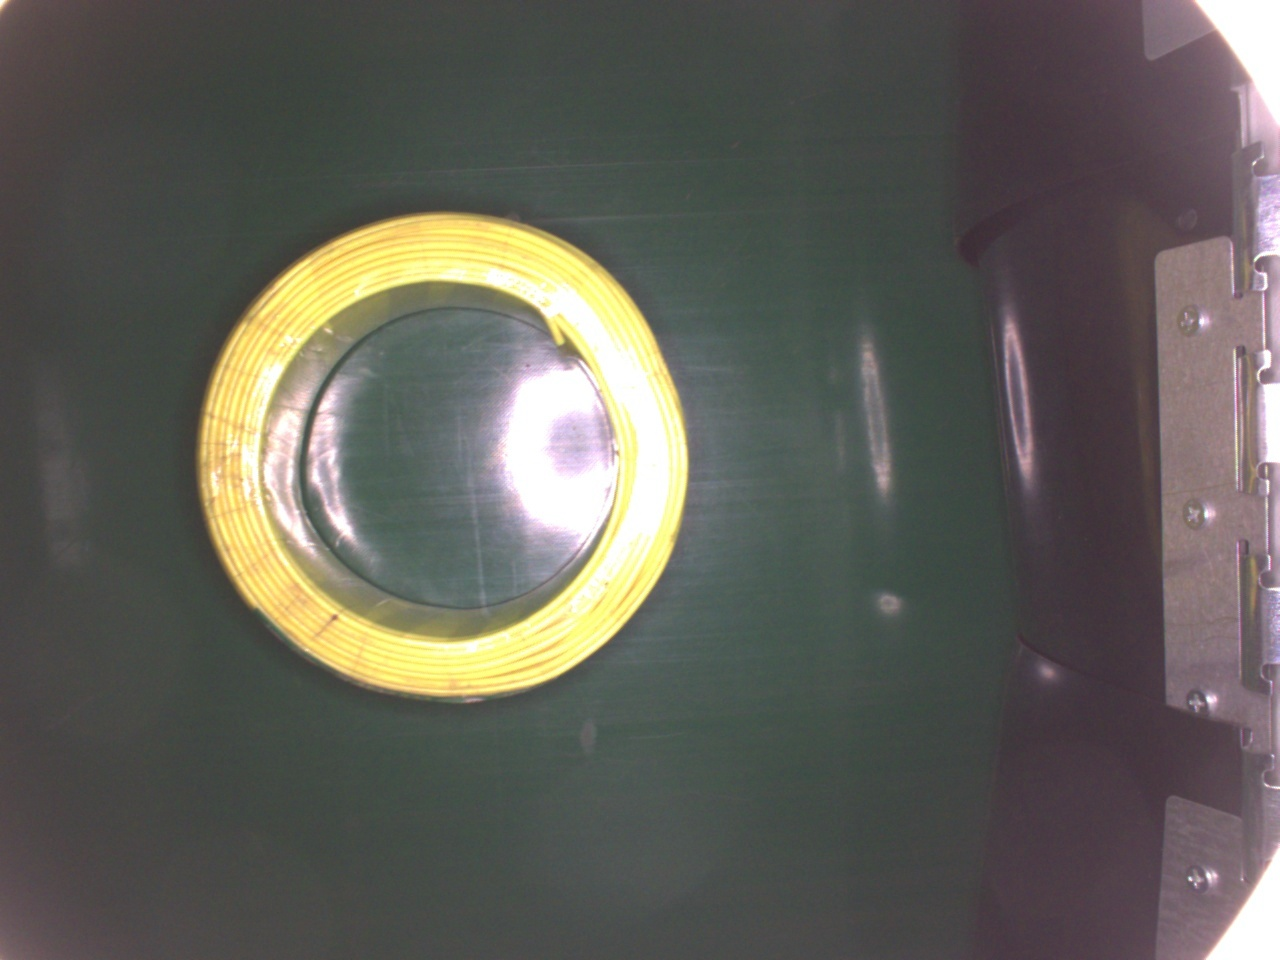yellow: (195, 207, 689, 697)
